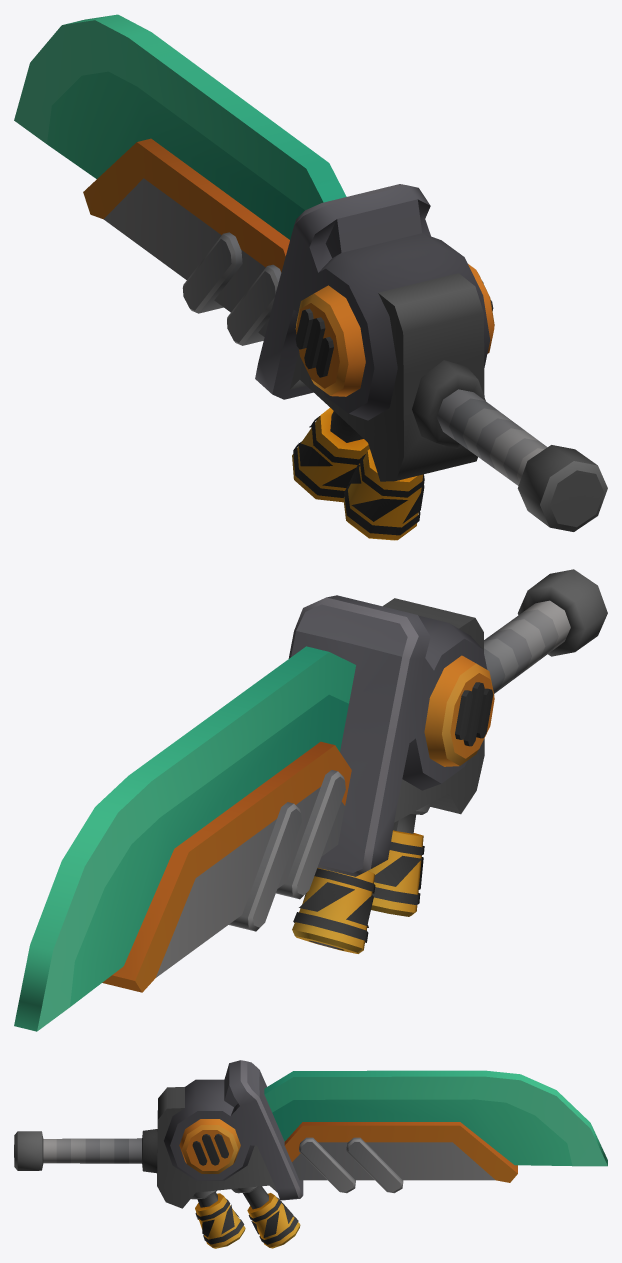
Rendered from Melee_AtomSlicer.fbx.
3 renders of one model, top to bottom at view 1: azimuth 30°, elevation 25°; view 2: azimuth 150°, elevation 25°; view 3: azimuth 270°, elevation 25°, orthographic. The views are drawn at different scales.
Visible parts, largest first — view 1: Melee_AtomSlicer; view 2: Melee_AtomSlicer; view 3: Melee_AtomSlicer.
Part boxes in pixels (<box>): Melee_AtomSlicer: <box>14,14,607,540</box>; Melee_AtomSlicer: <box>14,569,607,1031</box>; Melee_AtomSlicer: <box>14,1060,607,1248</box>.
Size of the model in its own units: 0.2045 by 0.3875 by 1.19.
